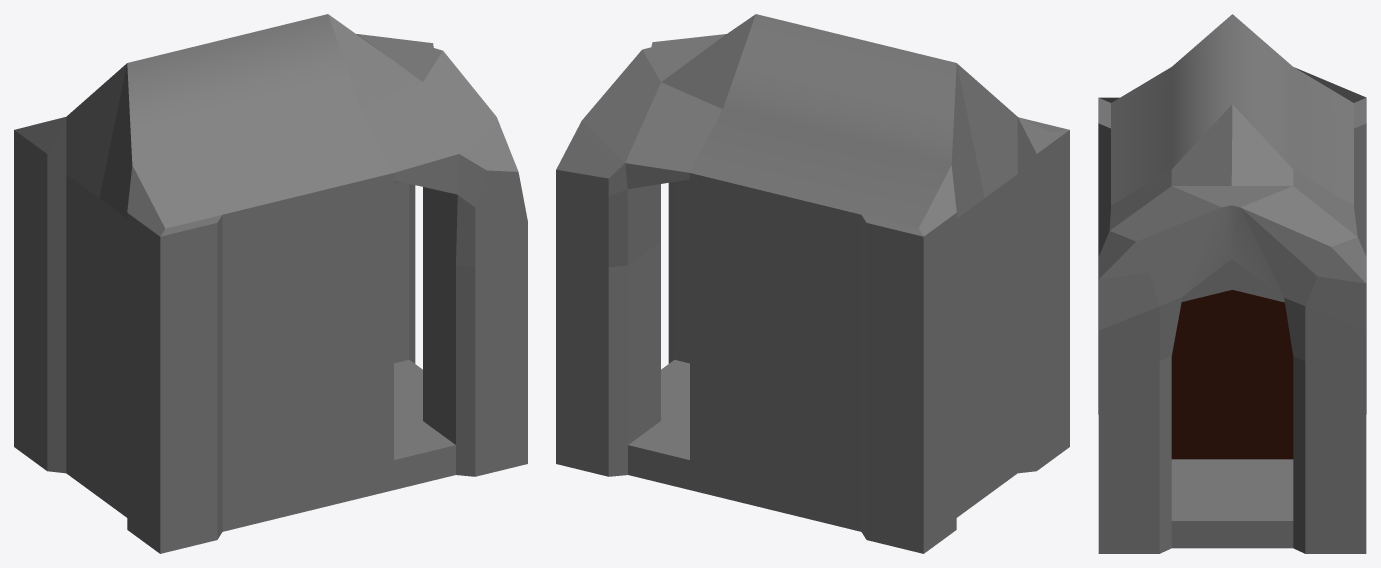
File: mausoleum.fbx
3 renders of one model, left to right at view 1: azimuth 30°, elevation 25°; view 2: azimuth 150°, elevation 25°; view 3: azimuth 270°, elevation 25°, orthographic. The views are drawn at different scales.
Visible parts, largest first — view 1: Box001; view 2: Box001; view 3: Box001.
Part boxes in pixels (x1,y1,x2,y2): Box001: (14,14,527,553); Box001: (556,14,1069,553); Box001: (1098,14,1366,553).
Bounding box in the file's own units: 6.43 × 7.15 × 4.42.
